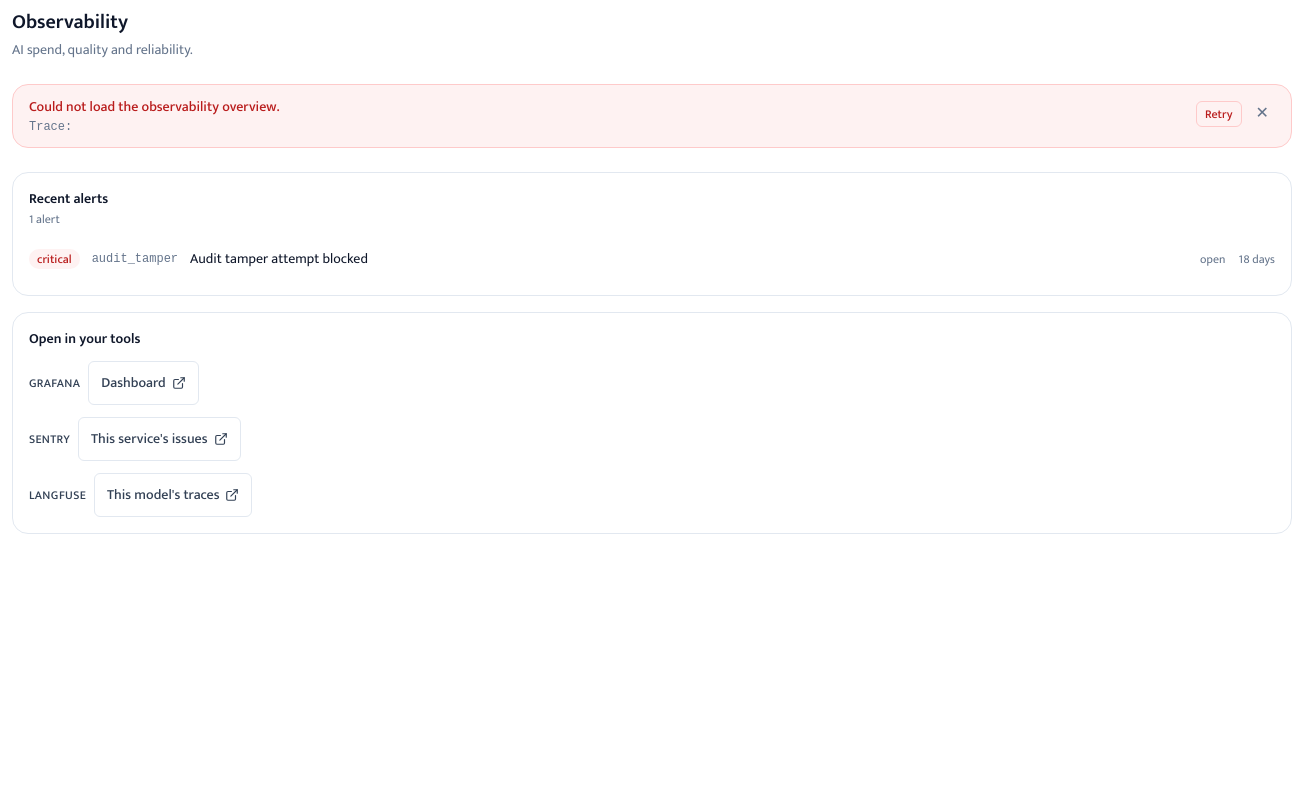
Test: ObservabilityOverviewPage › retry reloads the overview after a failure
This screenshot has width=1292, height=800.
expect the message "Could not load the observability overview. Trace: Retry ✕" is shown: met, box [12,84,1291,148]
Click the button with test id "error-banner-retry": coordinates (1219, 114) [1196,101,1242,127]
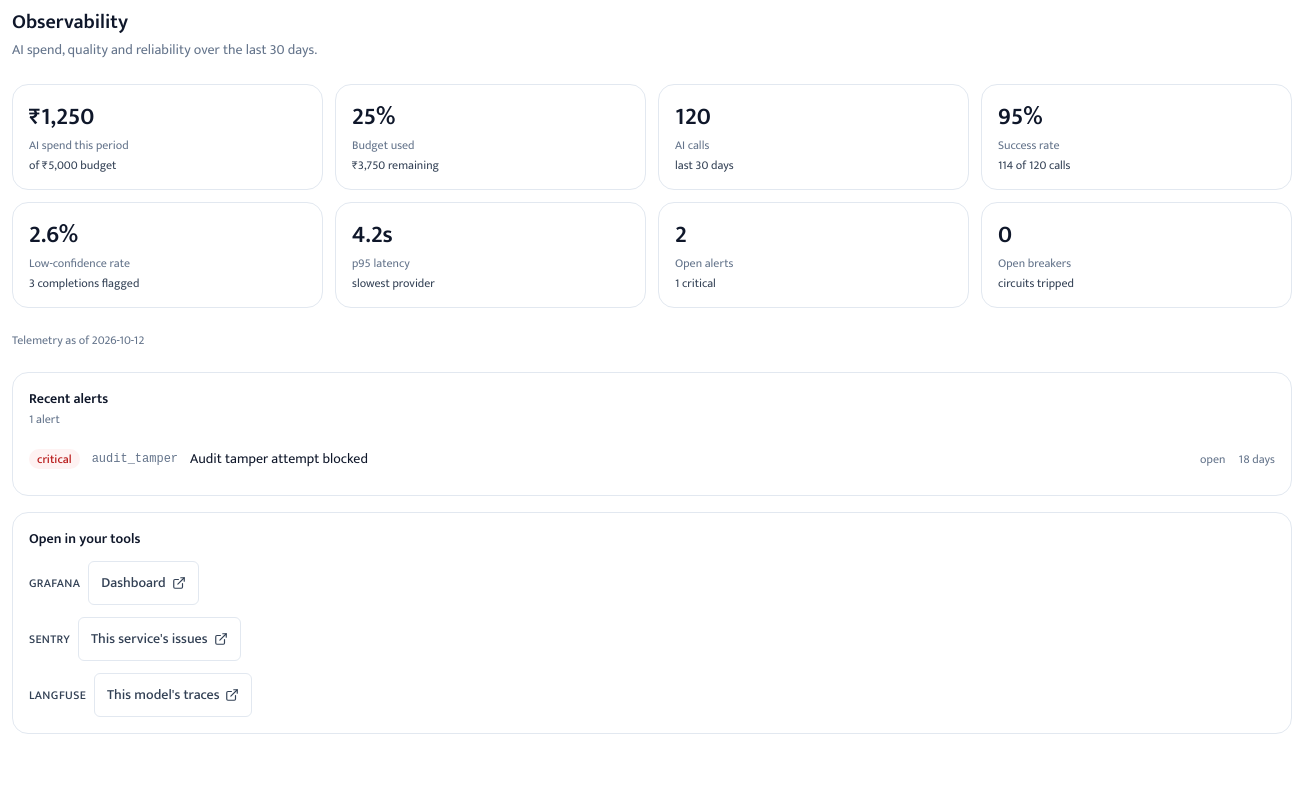
expect the text with test id "kpi-ai-spend-value" reads "₹1,250": met, box [29,97,94,137]
expect the message with test id "error-banner" is gone: met
